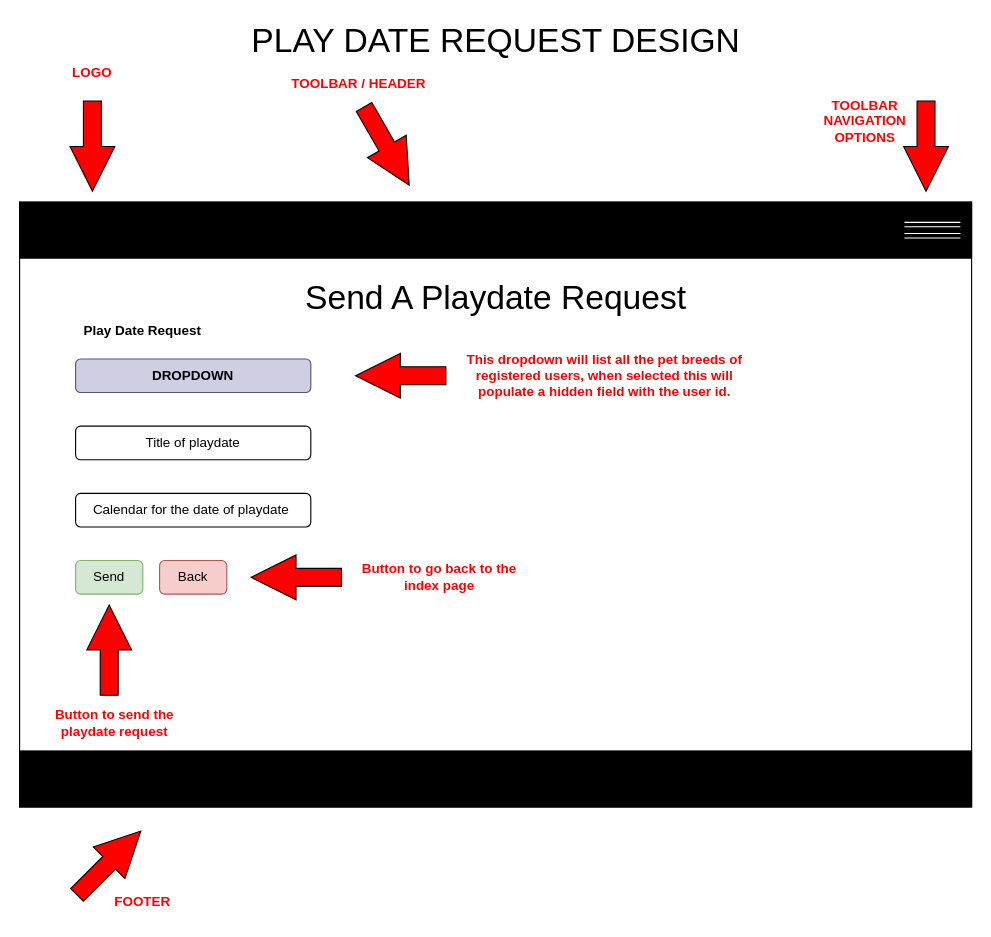
This 991x937 diagram has some shape labels left out. Each missing label, with the centre of its shape:
PETS R US: (495,229)
PETS R US 2023: (495,778)
